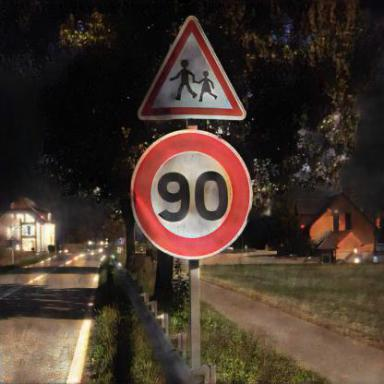Speed_limit_90: (134, 138, 249, 255)
